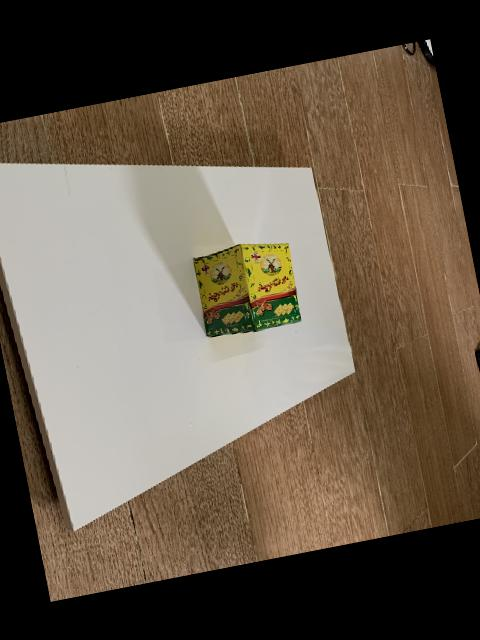luong_kho: (192, 243, 300, 337)
